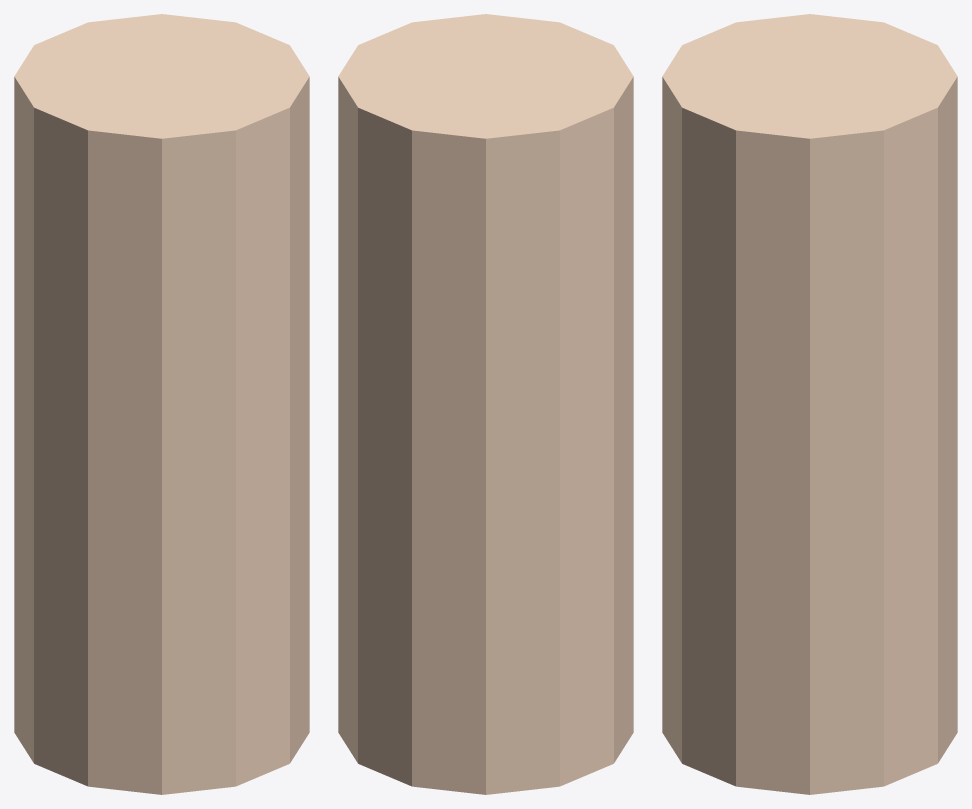
Rendered from player_femur.obj.
3 views of the same model, side by side, from view 1: azimuth 30°, elevation 25°; view 2: azimuth 150°, elevation 25°; view 3: azimuth 270°, elevation 25° (orthographic).
Bounding box in the file's own units: 0.2721 × 0.667 × 0.2721.
1 material, 1 textured.
